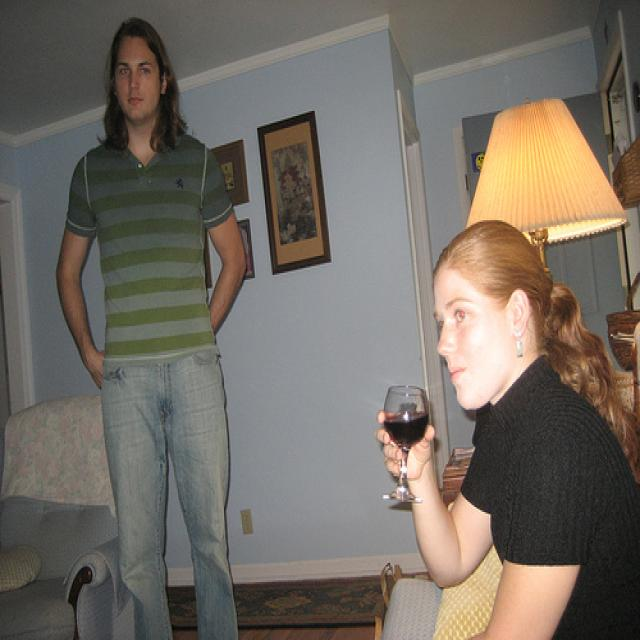chair: (1, 390, 137, 639)
person: (55, 15, 248, 639), (374, 220, 640, 640)
